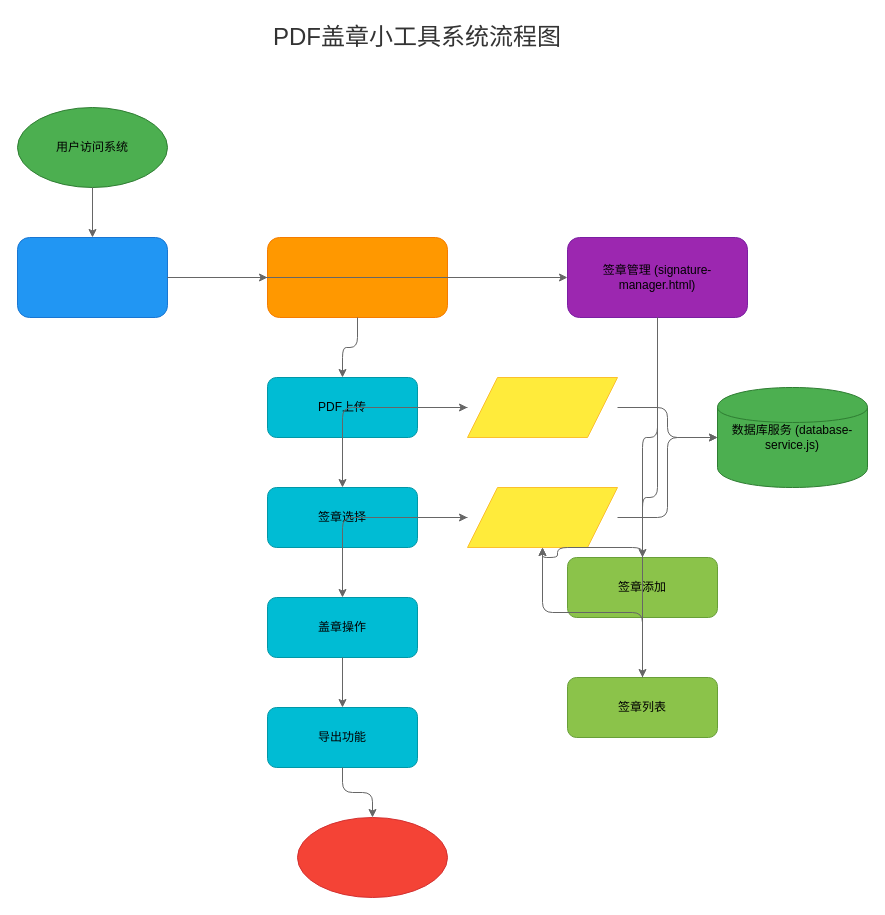
This 885x915 diagram has some shape labels left out. Here are the shapes that lost their labels. From the top down, the centre of each, then its label:
the point at 92,277: 首页 (index.html)
the point at 357,277: PDF编辑器 (pdf-editor.html)
the point at 542,407: PDF服务 (pdf-service.js)
the point at 542,517: 签章服务 (signature-service.js)
the point at 372,857: 完成操作
